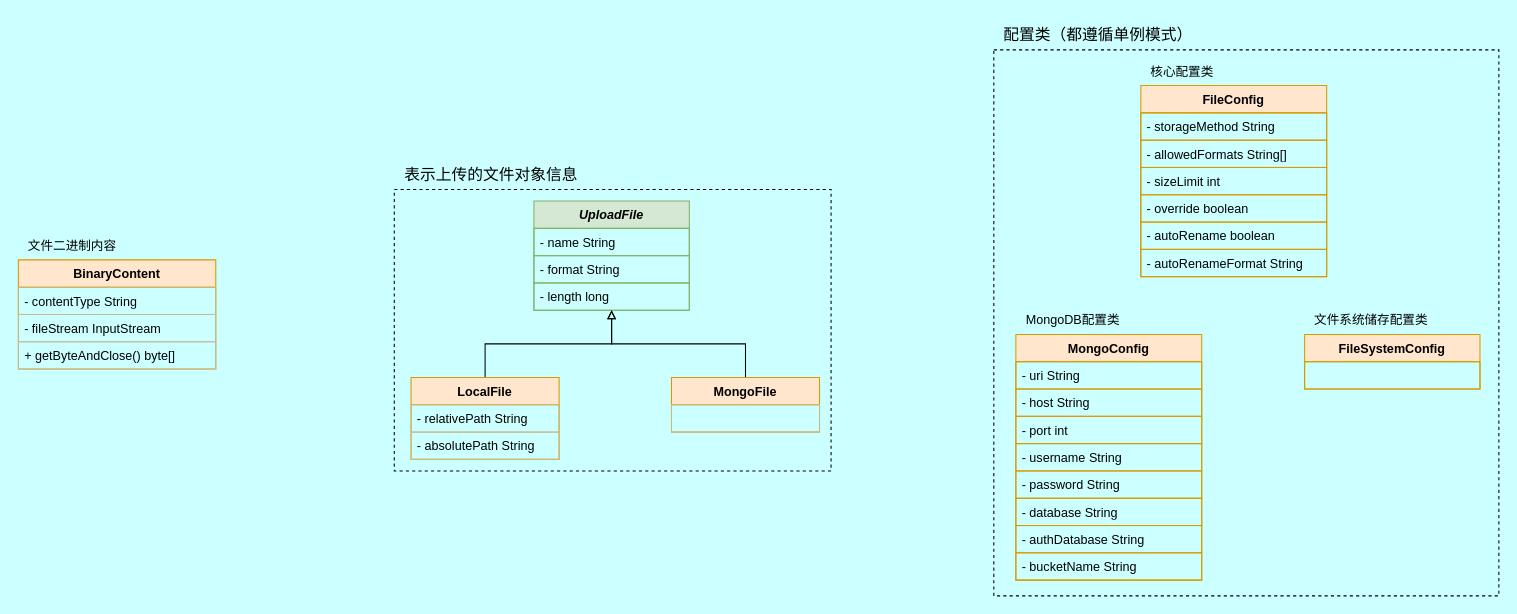
This 1517x614 diagram has some shape labels left out. The shapes that lost their labels are listed below. From the top down, each one's centre as x and y in pixels, then its label:
At pixel 1392 375: "- saveFolder String".
At pixel 745 418: "- id ObjectId".
